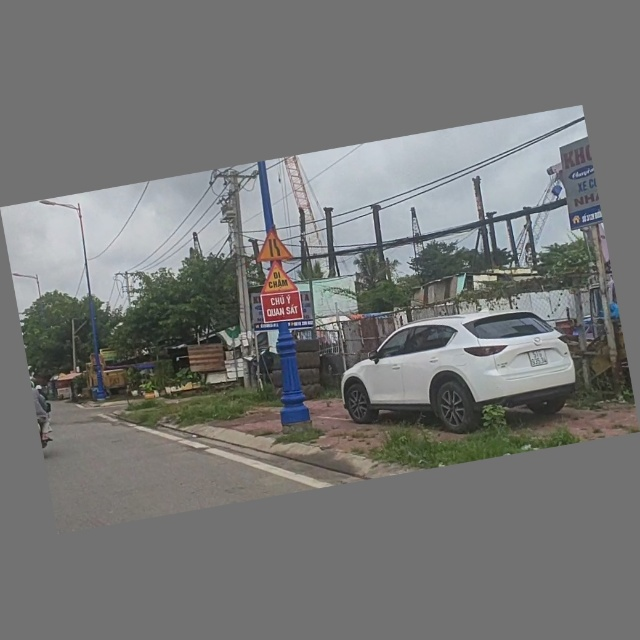W.203c: (252, 227, 294, 265)
W.245a: (257, 259, 300, 297)
